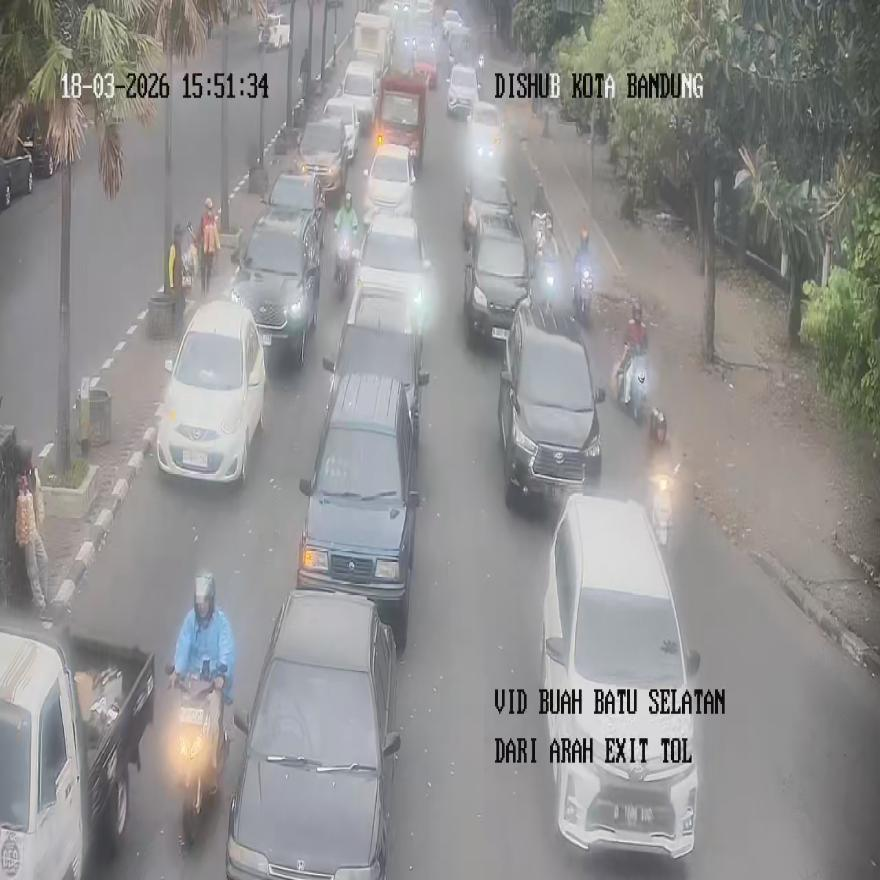Motor: (540, 491, 700, 858), (225, 589, 401, 878), (0, 620, 154, 878), (297, 373, 419, 649), (498, 296, 604, 508), (156, 298, 264, 484), (322, 287, 428, 449), (229, 186, 322, 365), (354, 210, 432, 344), (463, 196, 530, 342), (376, 72, 426, 169), (364, 142, 415, 220)
Truk: (166, 664, 229, 848), (613, 350, 648, 422), (648, 474, 673, 548), (334, 228, 356, 300), (534, 249, 558, 308), (573, 262, 593, 323)
